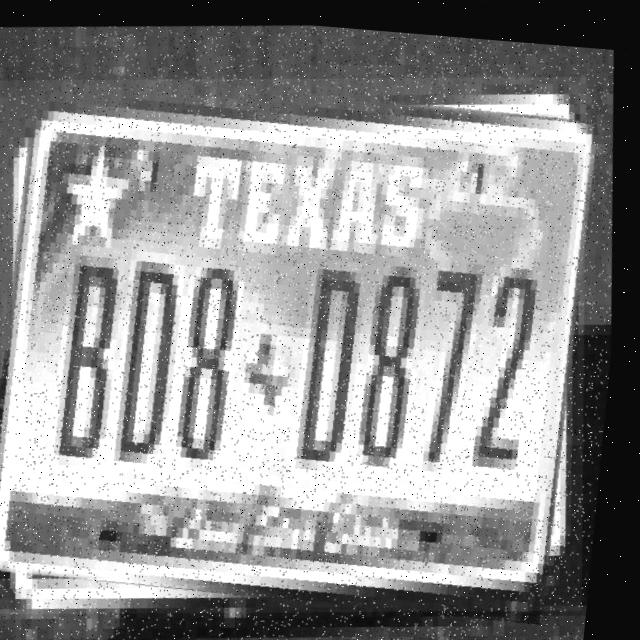LicensePlate: (0, 29, 633, 640)
